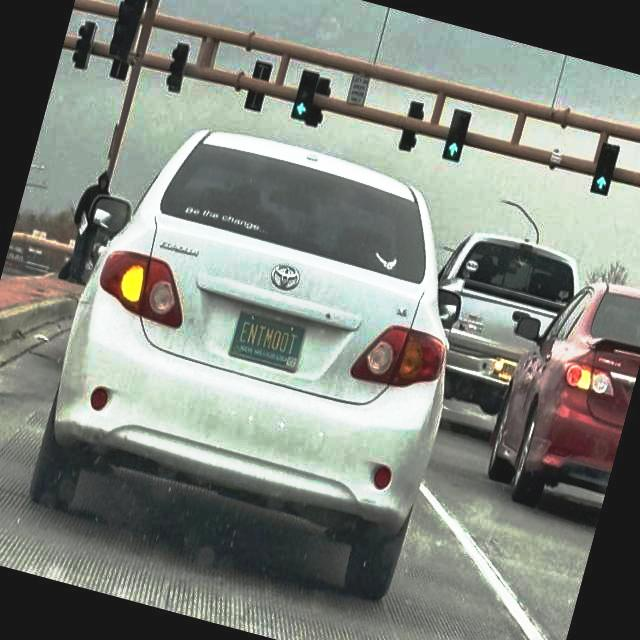license_plate: (229, 309, 308, 374)
